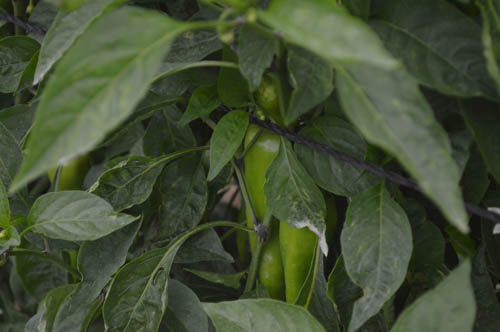ChiliPepper: (242, 123, 283, 302), (279, 198, 342, 309)
